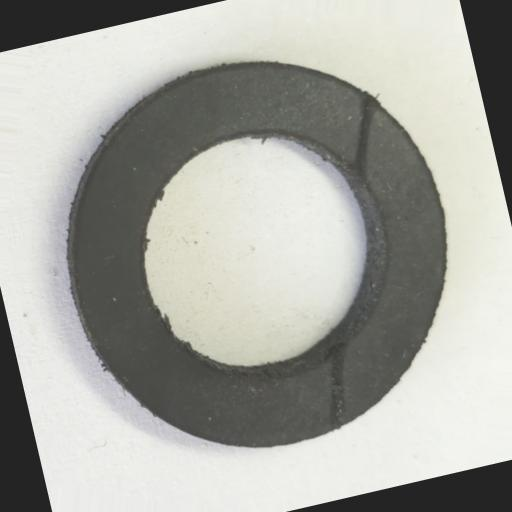defect: (314, 342, 364, 431), (336, 94, 388, 175)
